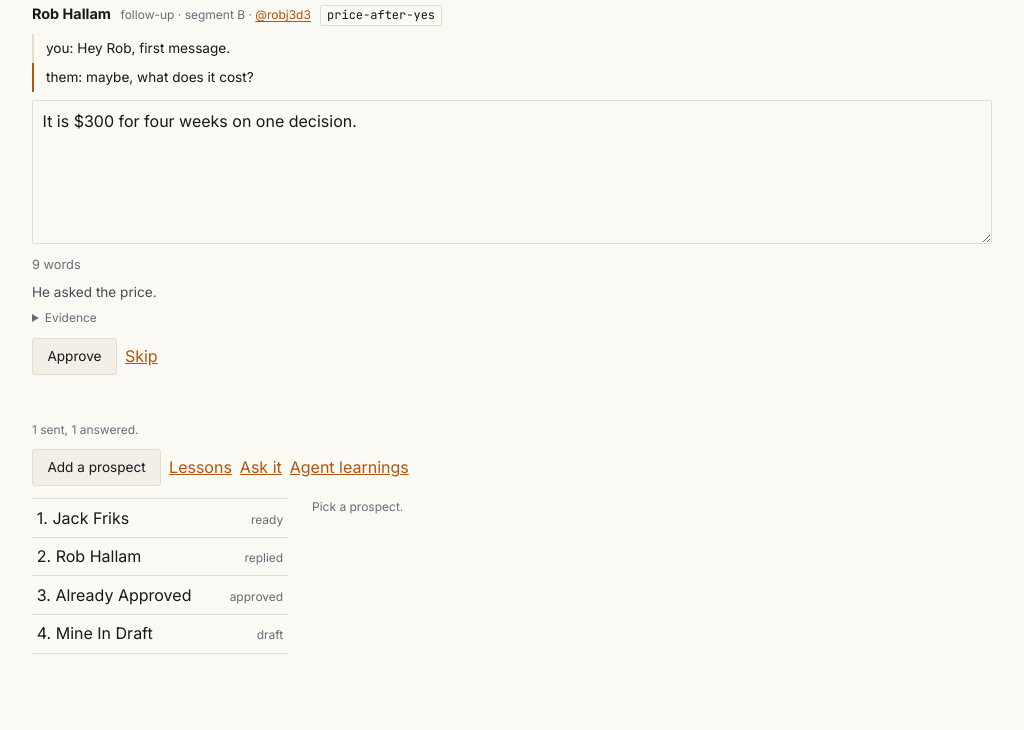
Test case: an opened prospect shows its thread › their words and the follow-ups in order, each with its status
(page scrolled)
Click the button "2. Rob Hallam replied". click: (160, 557)
box: [32, 538, 288, 575]
(page scrolled)
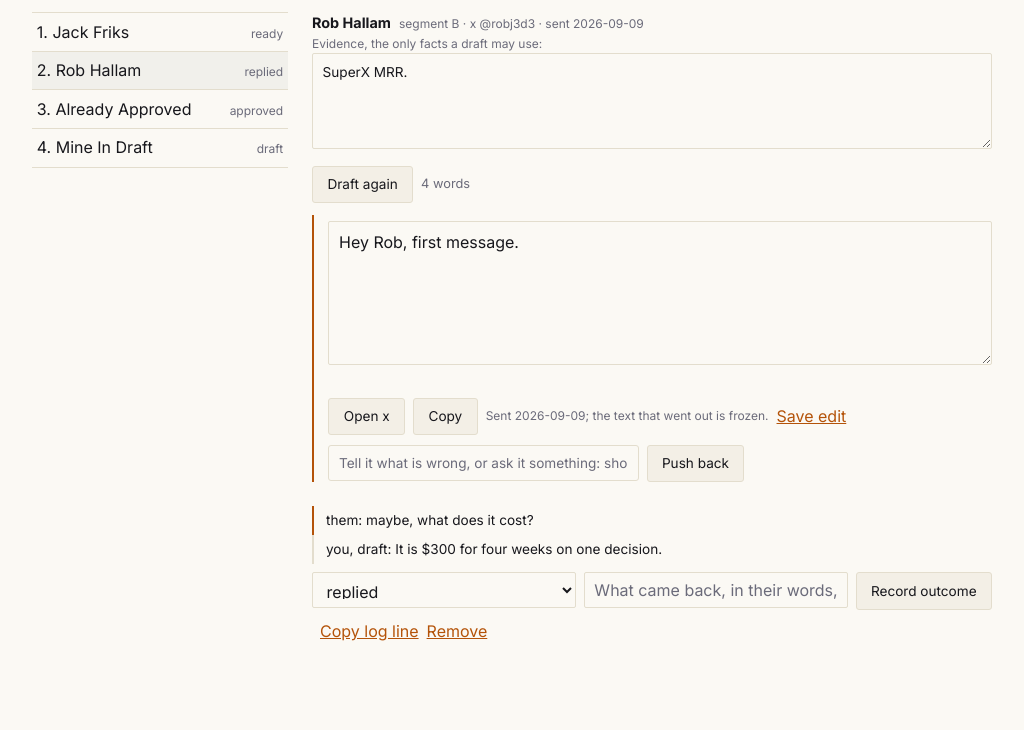
Now the list item "them: maybe, what does it cost?" is shown, box [312, 506, 992, 535]
Now the list item "you, draft: It is $300 for four weeks on one decision." is shown, box [312, 535, 992, 564]
